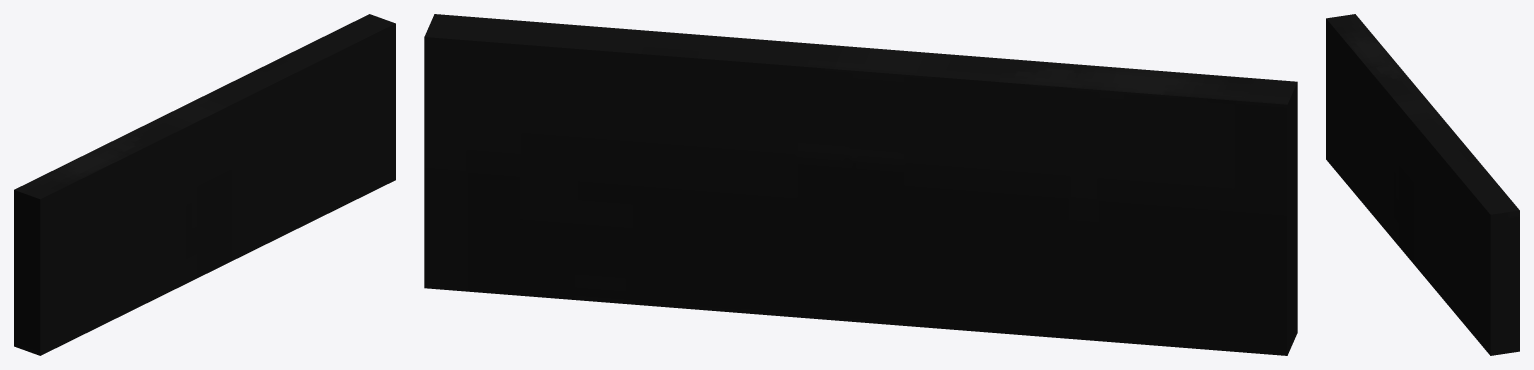
The model's file is backrest__selector_rack.glb.
The picture shows the model from 3 angles, left to right: view 1: azimuth 30°, elevation 25°; view 2: azimuth 150°, elevation 25°; view 3: azimuth 270°, elevation 25°; orthographic projection. The views are drawn at different scales.
Visible parts, largest first — view 1: world; view 2: world; view 3: world.
Part boxes in pixels (left/top/right/bottom): world: left=14, top=14, right=395, bottom=355; world: left=424, top=14, right=1297, bottom=355; world: left=1326, top=14, right=1519, bottom=355.
Bounding box in the file's own units: 0.1831 × 0.06 × 0.0747.
1 material, 1 textured.
